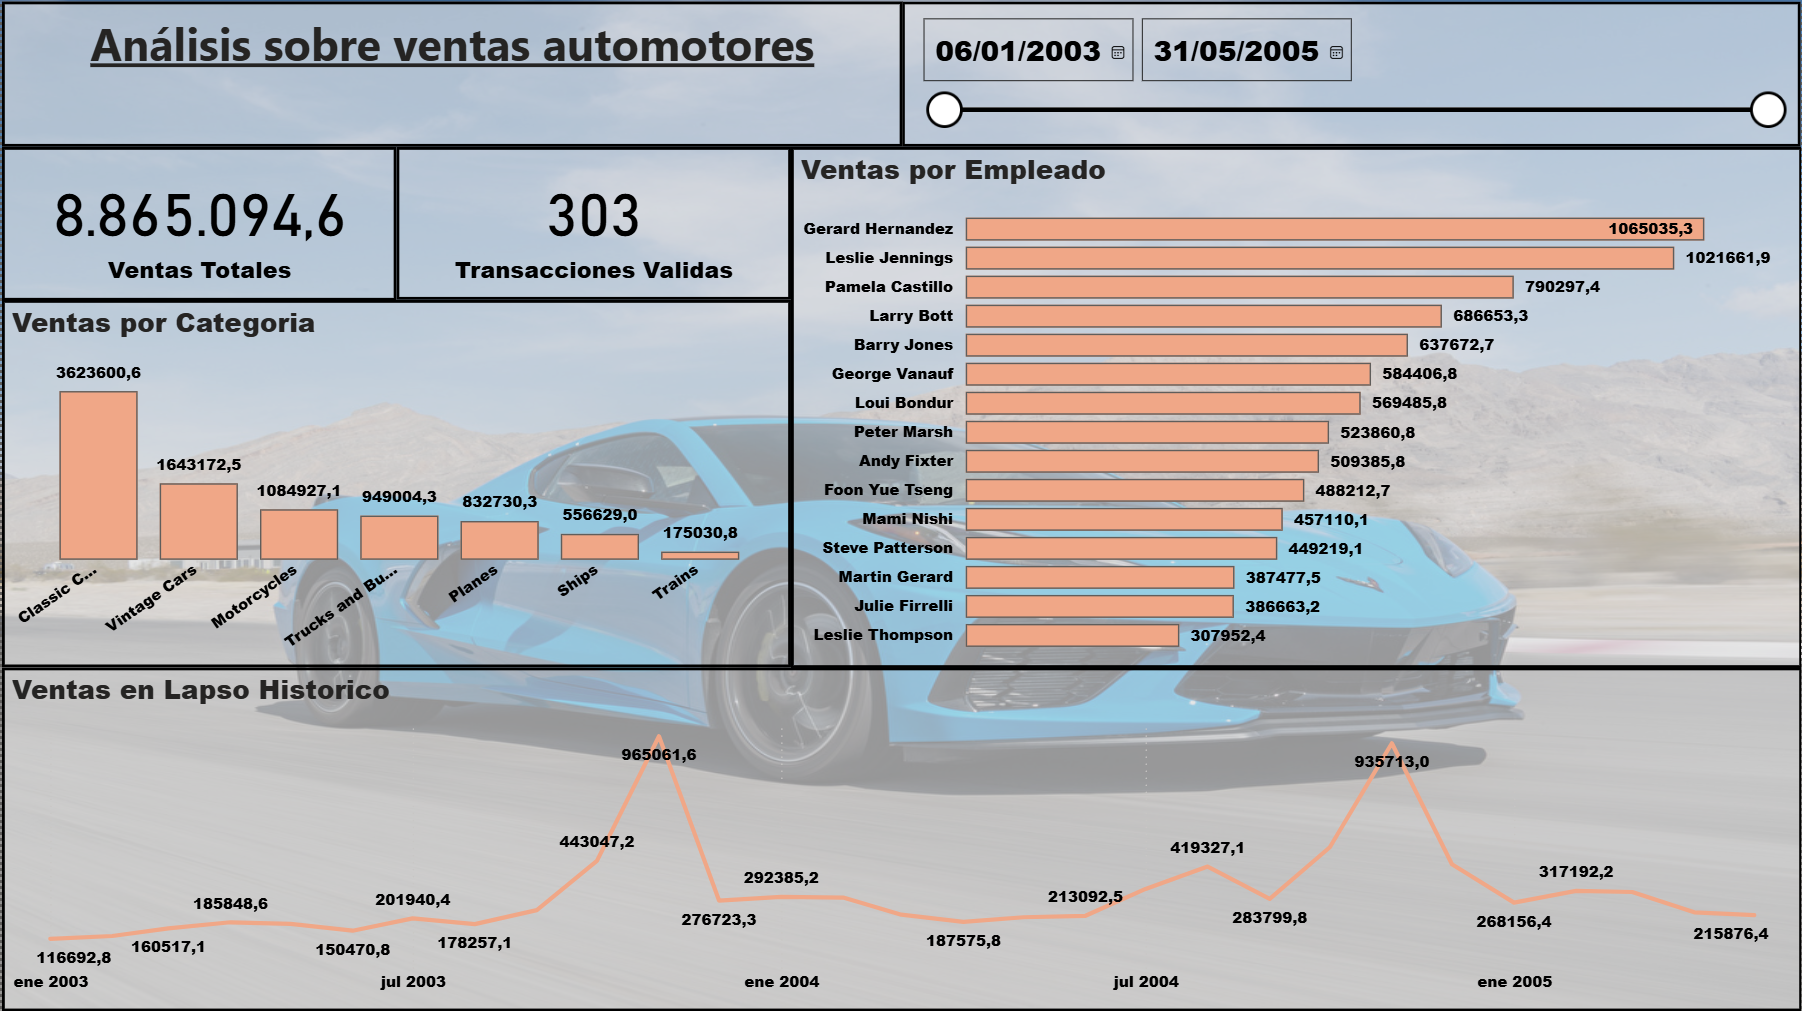

The dashboard page shown, as its layout file describes it:
{"tool":"powerbi","page":{"name":"Classicmodels","canvas":[1280,720],"ordinal":0},"visuals":[{"type":"card","fields":{"Values":["ClassicModels.Ventas"]},"box":[0,104.1,280.8,109.4],"z":0},{"type":"card","fields":{"Values":["ClassicModels.Transacciones"]},"box":[280.4,104.3,280.4,108.9],"z":1000},{"type":"lineChart","title":"Ventas en Lapso Historico","fields":{"Category":["ClassicModels.Fecha.Variación.Jerarquía de fechas.Año","ClassicModels.Fecha.Variación.Jerarquía de fechas.Mes"],"Y":["ClassicModels.Ventas"]},"box":[0,475.1,1280.4,244.5],"z":2000},{"type":"barChart","title":"Ventas por Empleado","fields":{"Category":["ClassicModels.Vendedor"],"Y":["ClassicModels.Ventas"]},"box":[560.8,104.3,719.6,370.8],"z":3000},{"type":"columnChart","title":"Ventas por Categoria","fields":{"Category":["ClassicModels.Categoria"],"Y":["ClassicModels.Ventas"]},"box":[0,213.2,561.2,261.5],"z":4000},{"type":"slicer","fields":{"Values":["ClassicModels.Fecha"]},"box":[640.8,1.2,639.6,103.1],"z":5000},{"type":"textbox","box":[0,1.2,640.8,103.1],"z":6000}]}

Visuals, with their boxes in screenshot pixels (x1, y1, x2, y2), scaled from the page's 1280x720 canvas onto the 1802x1011 screenshot:
card - ClassicModels.Ventas: x1=0 y1=146 x2=395 y2=300
card - ClassicModels.Transacciones: x1=395 y1=146 x2=790 y2=299
"Ventas en Lapso Historico" lineChart: x1=0 y1=667 x2=1801 y2=1010
"Ventas por Empleado" barChart: x1=790 y1=146 x2=1801 y2=667
"Ventas por Categoria" columnChart: x1=0 y1=299 x2=790 y2=667
slicer - ClassicModels.Fecha: x1=902 y1=2 x2=1801 y2=146
textbox: x1=0 y1=2 x2=902 y2=146
